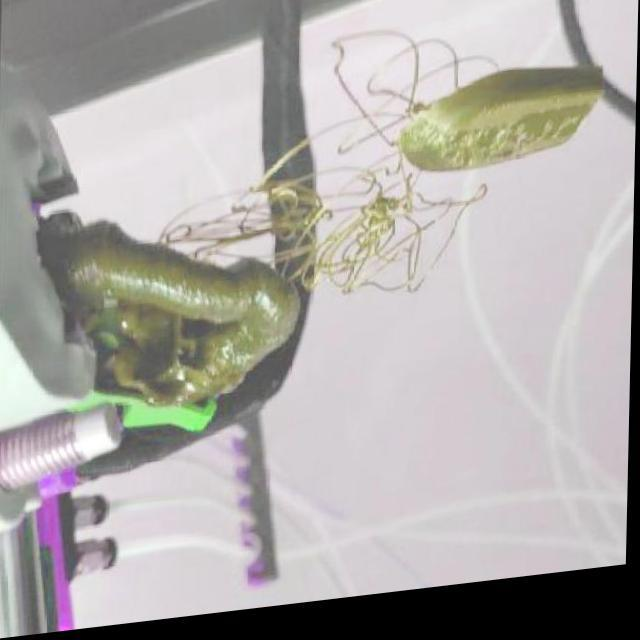spaghetti: (147, 113, 498, 340), (318, 25, 497, 130)
